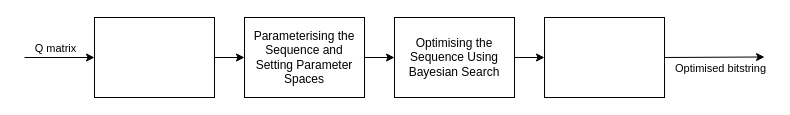
Image size: 790x115. Some labels were removed from this diagram. Each missing label, with the box of its shape:
Defining the Neutral Atom Register: (94, 16, 214, 98)
Retrieving the bitstring for the best solution found: (544, 16, 664, 98)
